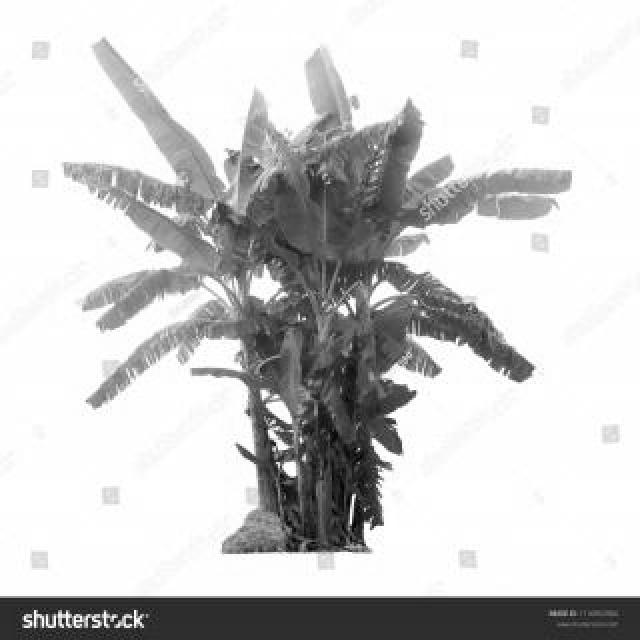Pisang: (68, 38, 572, 547)
